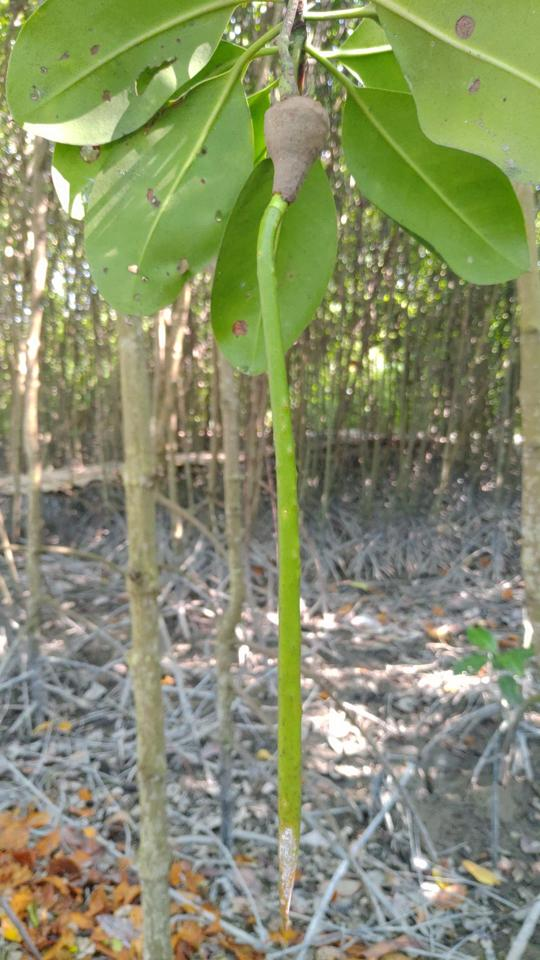setengah matang: (240, 64, 350, 932)
